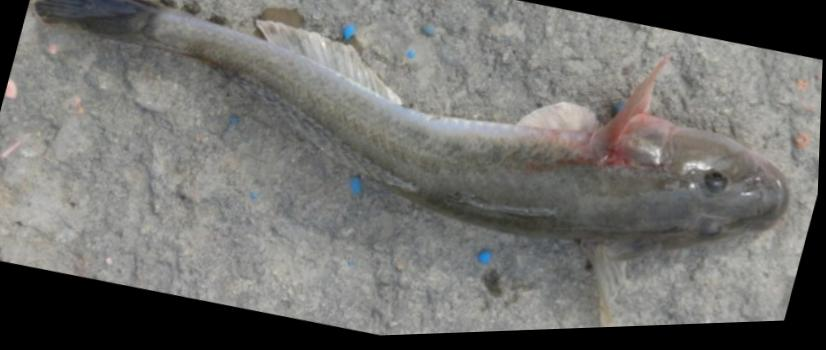fish: (36, 0, 790, 332)
